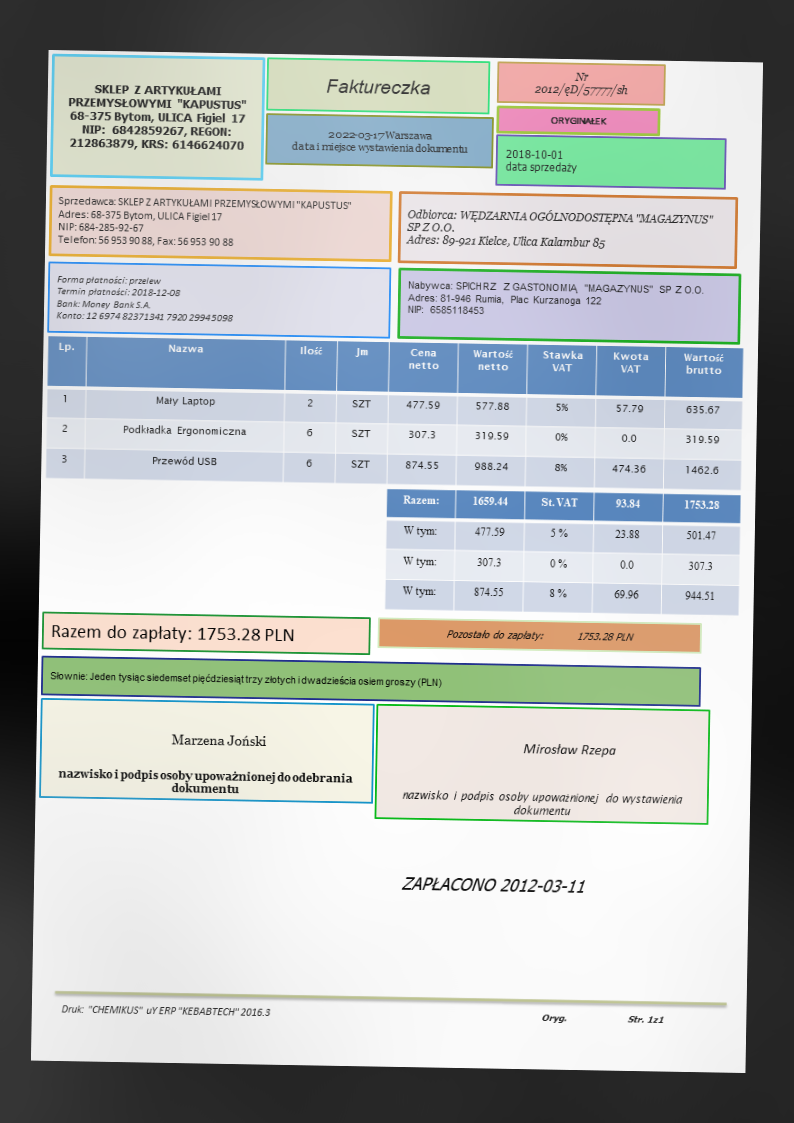Table: (44, 333, 746, 492), (384, 485, 743, 615)
TextBox: (54, 191, 352, 252), (404, 204, 716, 254), (64, 78, 249, 154), (406, 277, 705, 322), (55, 765, 355, 799), (399, 785, 685, 820), (46, 667, 445, 692), (54, 272, 236, 325), (47, 619, 296, 647), (289, 125, 470, 157), (399, 870, 590, 897), (59, 1000, 275, 1020), (442, 625, 637, 645), (532, 68, 630, 100), (322, 74, 432, 101), (167, 728, 268, 751), (538, 1010, 666, 1028), (503, 144, 577, 175), (520, 738, 619, 759), (548, 112, 606, 128)
